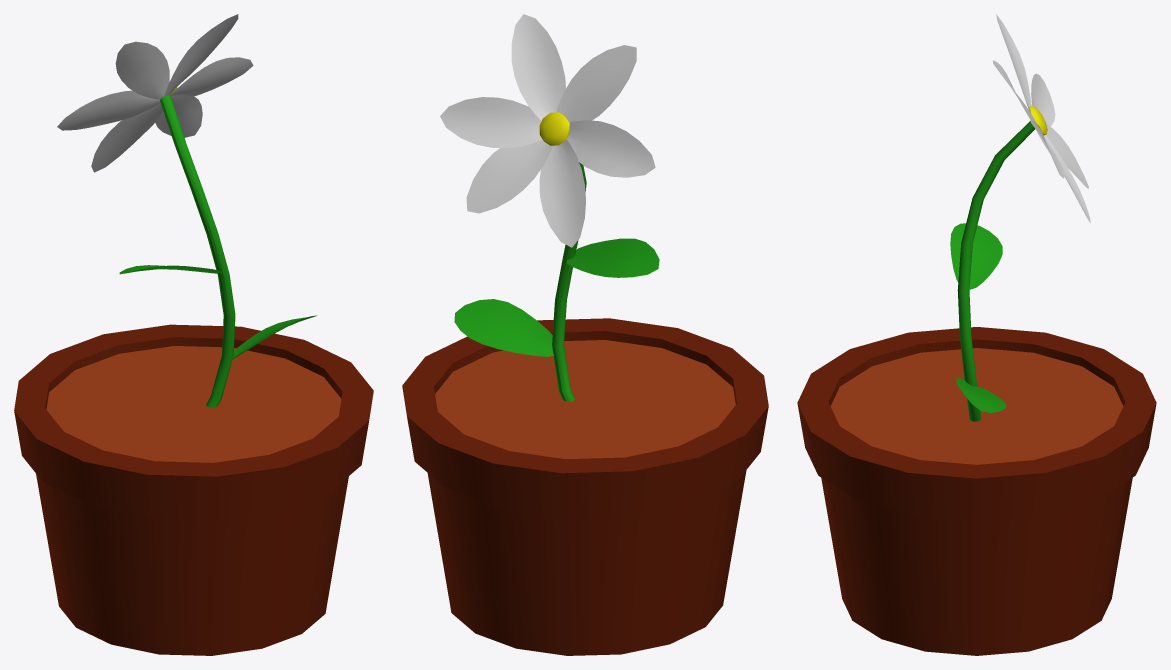
The model's file is HAT_Flower_Pot.fbx.
3 renders of one model, left to right at view 1: azimuth 30°, elevation 25°; view 2: azimuth 150°, elevation 25°; view 3: azimuth 270°, elevation 25°, orthographic. The views are drawn at different scales.
Parts seen in each view (by area): view 1: Flower_Pot; view 2: Flower_Pot; view 3: Flower_Pot.
Boxes of the visible parts, x1,y1,x2,y2 form: Flower_Pot: (14, 14, 373, 655); Flower_Pot: (402, 14, 768, 655); Flower_Pot: (797, 14, 1156, 655).
Size of the model in its own units: 30.47 by 52.44 by 30.47.
